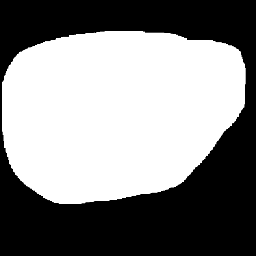mass: (8, 26, 250, 215)
